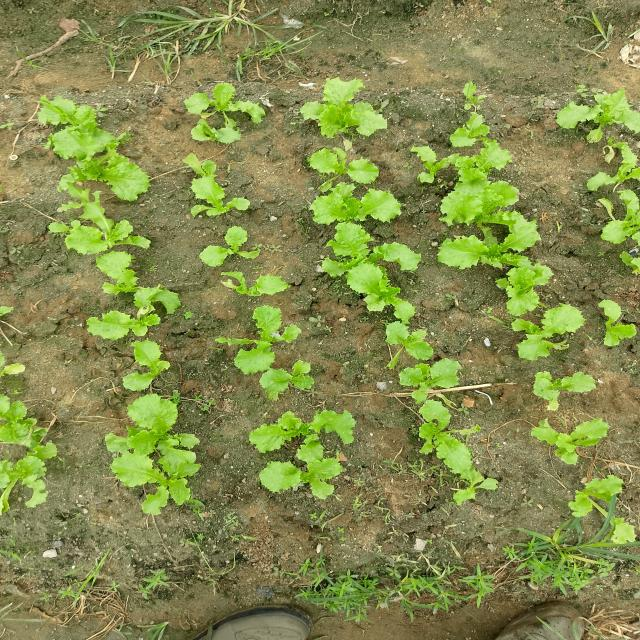Lettuce: (162, 78, 266, 151), (310, 222, 412, 294), (442, 144, 528, 223), (300, 72, 394, 142), (120, 447, 205, 513), (57, 196, 143, 258), (38, 95, 125, 155), (440, 216, 540, 266), (536, 86, 640, 134), (251, 403, 357, 450), (221, 312, 313, 366), (510, 300, 590, 357), (70, 264, 132, 336), (307, 184, 409, 227), (64, 156, 168, 198), (179, 161, 252, 218), (305, 147, 386, 193), (0, 446, 53, 516), (124, 392, 186, 451), (397, 354, 469, 404), (259, 456, 347, 496), (566, 470, 630, 524), (195, 224, 261, 273), (530, 368, 602, 411), (381, 303, 434, 357), (256, 354, 321, 398), (119, 338, 174, 389), (500, 259, 558, 307), (596, 133, 640, 193), (593, 298, 638, 352), (215, 265, 288, 297), (135, 284, 177, 335), (602, 194, 640, 248), (446, 108, 501, 139), (410, 144, 450, 181)
